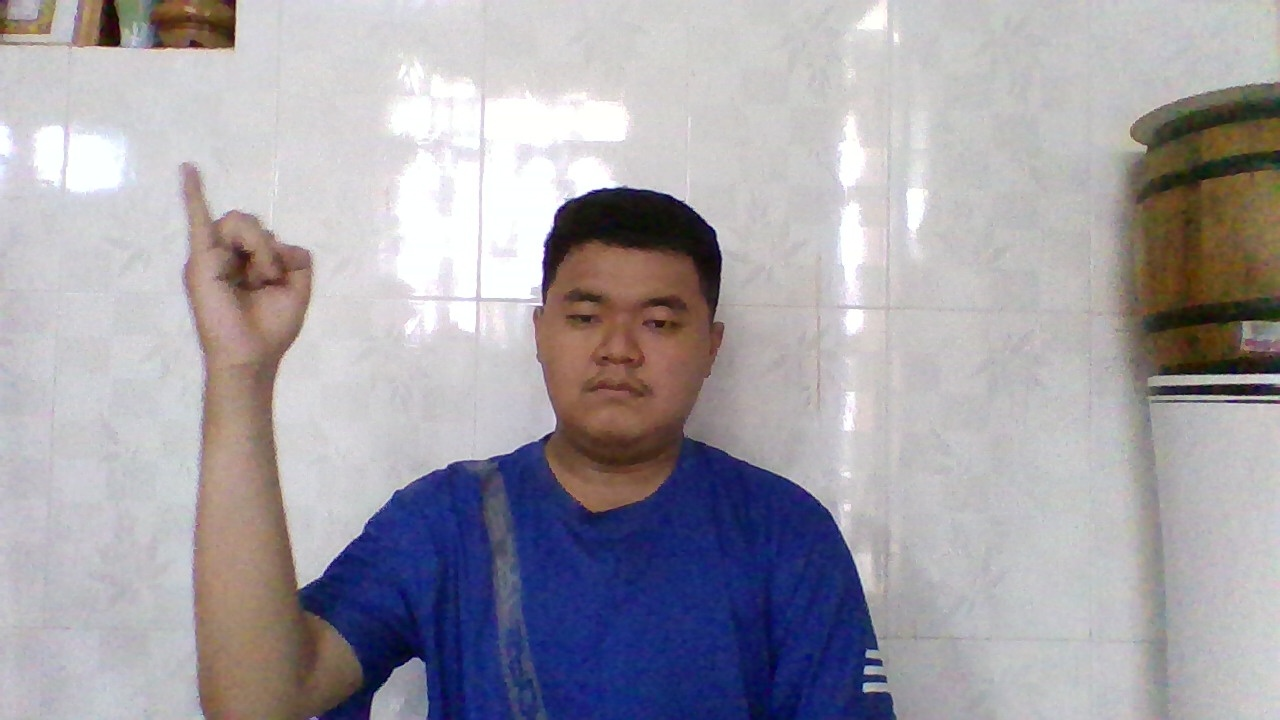I: (175, 155, 324, 377)
